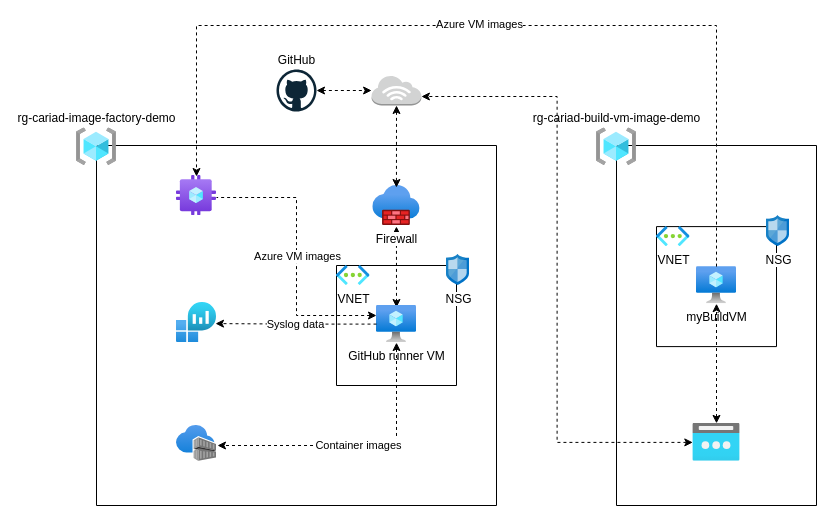
The diagram is 834 pixels wide and 523 high, and some of its shapes have lost their labels. The box of each missing label's shape, as (x1, y1, x2, y2) in pixels:
ACR: (176, 425, 216, 461)
Compute Gallery: (176, 175, 216, 215)
Internet: (371, 74, 421, 106)
Log Analytics Workspace: (176, 302, 216, 342)
Public IP: (692, 423, 740, 461)
